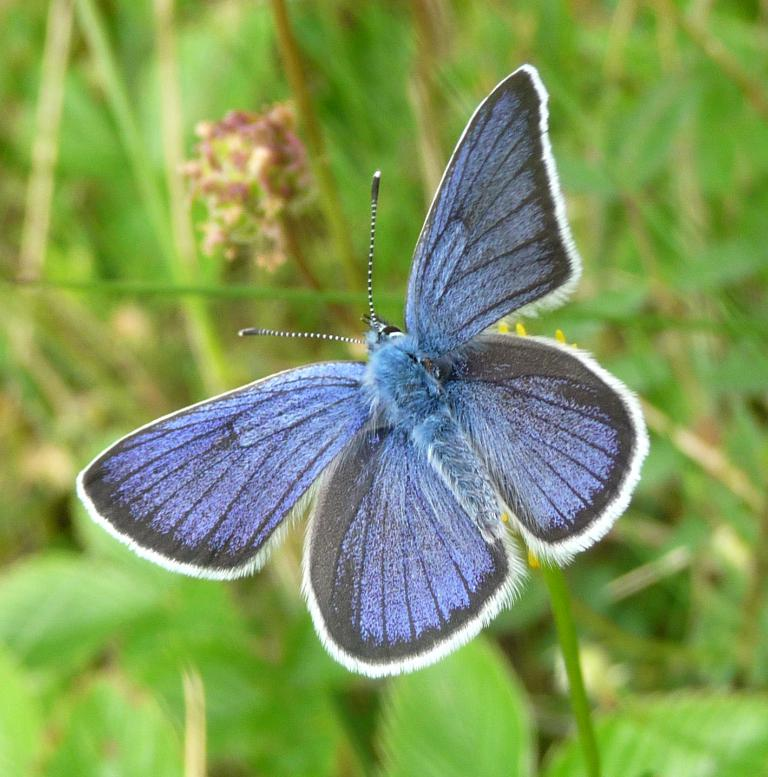Butterfly: (64, 74, 664, 666)
